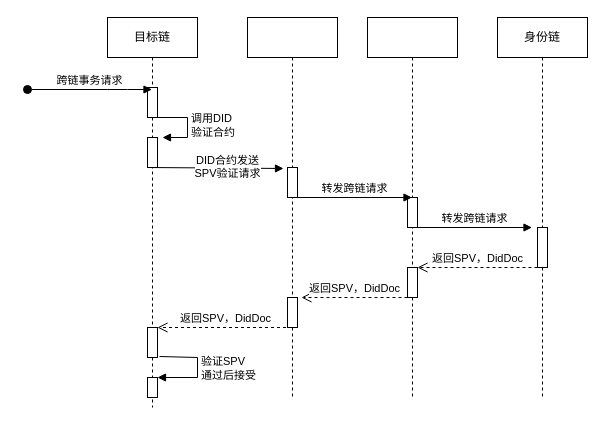
This 605x425 diagram has some shape labels left out. Each missing label, with the centre of its shape:
跨链服务节点: (x=292, y=207)
身份服务节点: (x=412, y=207)
